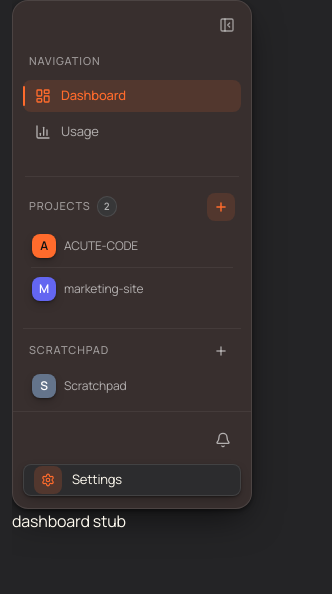
Scenario: R129-S: the Scratchpad section (SCREENS §2 law #9, REWRITTEN) › the kicker row's New chat button creates a Scratchpad session and navigates to its chat
This screenshot has width=332, height=594.
Click the button with test id "start-general-conversation": click(221, 350) [207,336,235,364]
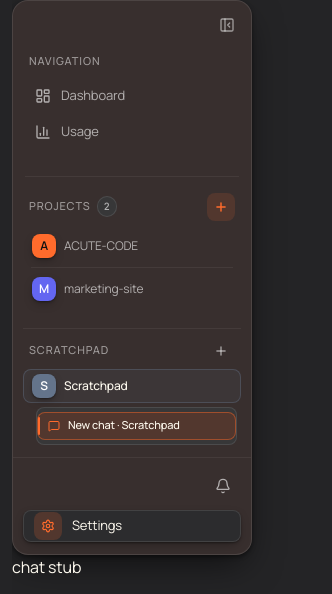
Expected: the text "chat stub" is shown, [12,556,81,578]
